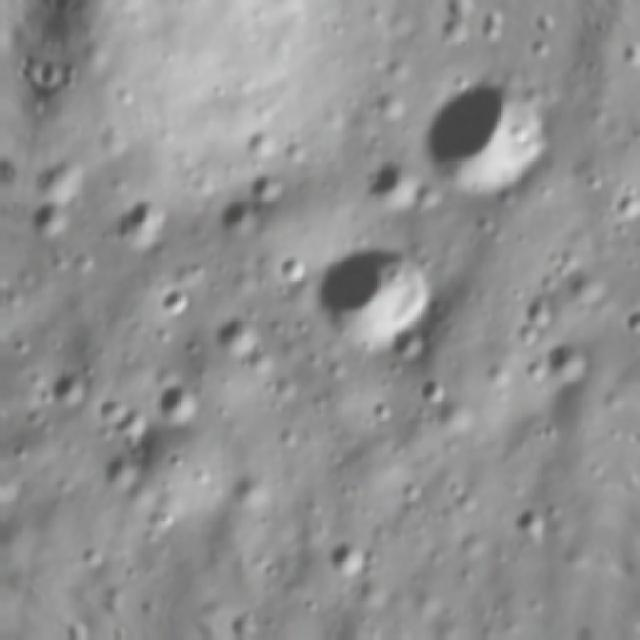crater: (413, 77, 569, 215), (303, 238, 449, 369), (208, 313, 280, 365), (114, 198, 166, 257), (149, 379, 206, 430), (360, 164, 415, 211), (503, 504, 552, 548), (544, 347, 588, 391), (155, 277, 197, 321), (512, 295, 556, 337), (40, 376, 85, 416), (409, 371, 449, 412), (323, 541, 360, 584), (28, 204, 69, 242), (243, 174, 285, 209), (357, 398, 398, 432), (53, 52, 82, 97), (606, 188, 640, 226), (273, 255, 302, 290), (607, 52, 640, 75), (161, 452, 188, 478), (618, 307, 640, 338), (527, 40, 550, 66), (477, 28, 500, 48), (257, 0, 292, 11)
